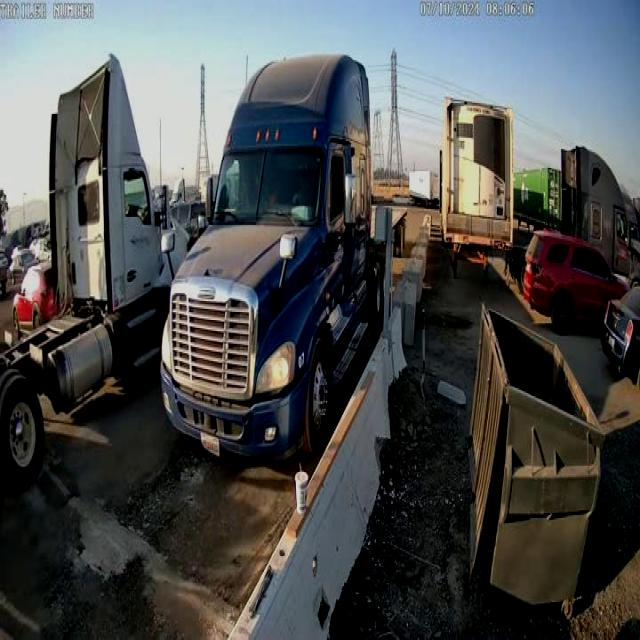BOBTAIL: (161, 53, 408, 470), (0, 54, 193, 490)
